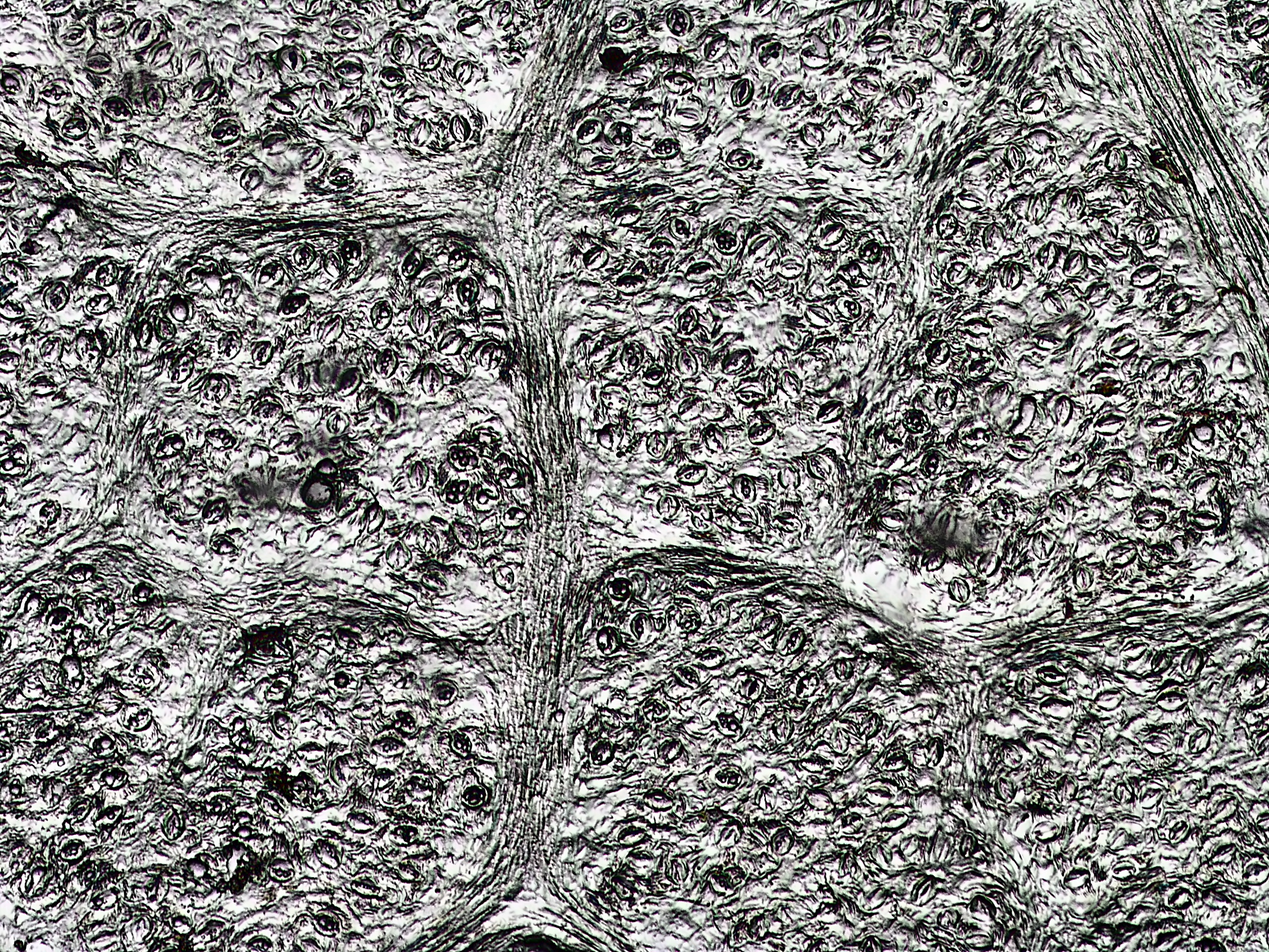stomata: (20, 864, 53, 898), (713, 816, 742, 849), (312, 909, 343, 939), (1207, 791, 1236, 823), (599, 382, 629, 412), (1038, 695, 1075, 719), (1025, 191, 1050, 226), (1103, 458, 1133, 487), (147, 40, 175, 71), (101, 96, 135, 121), (772, 82, 802, 110), (860, 880, 888, 910), (43, 281, 70, 312), (251, 399, 282, 426), (154, 434, 185, 461), (255, 790, 286, 817), (318, 314, 344, 346), (385, 539, 411, 571), (1000, 141, 1025, 174), (205, 427, 238, 452), (756, 40, 784, 69), (451, 520, 479, 549), (618, 341, 645, 371), (312, 839, 339, 869), (596, 625, 622, 656), (912, 875, 938, 906), (1022, 129, 1057, 152), (807, 451, 835, 479), (975, 551, 1003, 579), (663, 73, 697, 96), (666, 7, 692, 37), (918, 29, 944, 59), (664, 855, 690, 885), (448, 446, 479, 471), (39, 81, 71, 105), (278, 293, 310, 317), (1064, 185, 1087, 218), (1105, 544, 1138, 567), (335, 367, 362, 395), (753, 611, 781, 638), (460, 784, 489, 810), (168, 354, 193, 384), (704, 33, 729, 63), (330, 755, 352, 789), (313, 79, 337, 110), (1142, 732, 1173, 756), (162, 808, 185, 840), (576, 118, 603, 145), (780, 626, 807, 653), (437, 330, 465, 356), (596, 423, 624, 449), (1057, 450, 1085, 476), (769, 827, 795, 855), (1139, 781, 1165, 809), (1157, 689, 1190, 711), (1006, 435, 1035, 460), (776, 256, 805, 281), (981, 221, 1005, 251), (1131, 264, 1161, 288), (1049, 395, 1073, 425), (732, 474, 756, 504), (422, 362, 443, 396), (401, 249, 424, 280), (651, 136, 682, 159), (449, 728, 472, 759), (1036, 664, 1067, 687), (370, 299, 392, 331), (630, 612, 652, 644), (349, 106, 375, 133), (607, 120, 633, 147), (407, 774, 434, 800), (970, 895, 996, 922), (615, 272, 643, 297), (124, 707, 152, 732), (271, 712, 296, 740), (312, 702, 337, 730), (590, 738, 615, 766), (334, 56, 363, 80), (730, 78, 754, 107), (712, 231, 741, 255), (704, 424, 728, 453), (804, 303, 833, 327), (816, 400, 845, 424), (921, 449, 945, 478), (707, 599, 731, 628), (1031, 532, 1055, 561), (1055, 775, 1079, 804), (330, 19, 363, 40), (133, 17, 156, 47), (271, 92, 301, 115), (375, 347, 398, 377), (24, 592, 47, 622), (394, 860, 424, 883), (407, 118, 429, 149), (1135, 509, 1166, 531), (863, 784, 894, 806), (371, 737, 405, 757), (348, 878, 382, 898), (100, 14, 127, 39), (212, 118, 239, 143), (204, 374, 228, 402), (800, 44, 828, 68), (1083, 282, 1111, 306), (675, 463, 707, 484), (430, 680, 458, 704), (994, 775, 1018, 803), (1109, 335, 1138, 358), (203, 496, 226, 525), (144, 83, 166, 113), (218, 329, 240, 359), (835, 103, 865, 125), (1037, 241, 1059, 271), (955, 190, 986, 211), (386, 825, 417, 846), (802, 753, 833, 774), (281, 46, 307, 71), (95, 261, 120, 287), (678, 395, 703, 421), (925, 340, 950, 366), (1062, 250, 1086, 277), (1134, 221, 1158, 248), (656, 494, 680, 521), (997, 741, 1021, 768), (377, 67, 405, 90), (457, 277, 480, 305), (645, 430, 668, 458), (713, 714, 741, 737), (966, 929, 994, 952), (1094, 415, 1126, 435), (408, 305, 430, 334), (677, 305, 699, 334), (28, 376, 58, 397), (736, 385, 766, 406), (781, 369, 802, 399), (1094, 690, 1124, 711), (1104, 148, 1129, 173), (751, 233, 776, 258), (836, 295, 861, 320), (657, 739, 682, 764), (795, 673, 820, 698), (419, 46, 443, 72), (1147, 358, 1171, 384), (269, 857, 295, 881), (457, 14, 484, 37), (818, 222, 845, 245), (729, 512, 756, 535), (643, 698, 670, 721), (772, 714, 795, 741), (871, 841, 894, 868), (408, 459, 428, 490), (684, 577, 715, 597), (643, 790, 674, 810), (240, 165, 262, 193), (685, 261, 713, 283), (581, 247, 609, 269), (1001, 260, 1023, 288), (722, 349, 750, 371), (94, 805, 122, 827), (805, 788, 833, 810), (772, 512, 801, 533), (493, 564, 514, 593), (346, 811, 375, 832), (1062, 868, 1091, 889), (617, 825, 646, 846), (850, 77, 880, 97), (970, 7, 995, 31), (1033, 331, 1063, 351), (750, 420, 775, 444), (364, 503, 384, 533), (375, 396, 399, 421), (103, 767, 128, 791), (675, 666, 700, 690), (94, 695, 124, 715), (60, 23, 86, 46), (190, 78, 216, 101), (934, 387, 957, 413), (1210, 841, 1236, 864), (838, 812, 864, 835), (708, 872, 734, 895), (480, 343, 502, 370), (801, 121, 823, 148), (878, 509, 905, 531), (500, 508, 527, 530), (1182, 649, 1204, 676), (829, 727, 851, 754), (1035, 737, 1062, 759), (585, 155, 616, 174), (130, 914, 149, 945), (84, 54, 112, 75), (61, 118, 89, 139), (323, 249, 344, 277), (726, 149, 754, 170), (1109, 860, 1137, 881), (696, 649, 725, 669), (1120, 640, 1149, 660), (714, 768, 743, 788), (325, 411, 349, 435), (3, 261, 28, 284), (40, 337, 63, 362), (642, 362, 665, 387), (902, 410, 927, 433), (777, 464, 800, 489), (1168, 885, 1191, 910), (965, 47, 987, 73), (966, 317, 992, 339), (1041, 292, 1067, 314), (676, 350, 698, 376), (948, 576, 970, 602), (862, 33, 892, 52), (263, 134, 290, 155), (450, 116, 471, 143), (1073, 566, 1094, 593), (692, 503, 713, 530), (1189, 727, 1210, 754), (85, 294, 113, 314), (673, 107, 701, 127), (492, 0, 512, 28), (66, 562, 94, 582), (1033, 821, 1061, 841), (935, 214, 958, 238), (947, 262, 971, 285), (67, 799, 91, 822), (1190, 510, 1219, 529), (184, 48, 206, 73), (609, 11, 634, 33), (754, 787, 776, 812), (861, 713, 883, 738), (294, 243, 315, 269), (327, 166, 354, 186), (392, 35, 411, 63), (155, 316, 177, 340), (668, 215, 690, 239), (650, 237, 674, 259), (970, 357, 994, 379), (1166, 293, 1191, 314), (134, 318, 152, 347), (251, 342, 274, 364), (827, 17, 848, 41), (292, 364, 310, 392), (91, 735, 115, 756), (296, 743, 324, 761), (880, 810, 908, 828), (925, 738, 943, 766), (898, 833, 919, 857), (448, 247, 468, 272), (616, 206, 641, 226), (1151, 542, 1176, 562), (59, 842, 84, 862), (1168, 818, 1188, 843), (170, 296, 189, 322), (1146, 416, 1175, 433), (860, 239, 881, 262), (1021, 92, 1045, 112), (1245, 17, 1269, 37), (1073, 735, 1098, 754), (896, 85, 917, 107), (454, 61, 473, 84), (857, 146, 881, 164), (1157, 453, 1178, 473), (833, 659, 853, 680), (1015, 674, 1035, 694), (961, 833, 977, 858), (1113, 782, 1131, 803), (743, 680, 761, 700)
